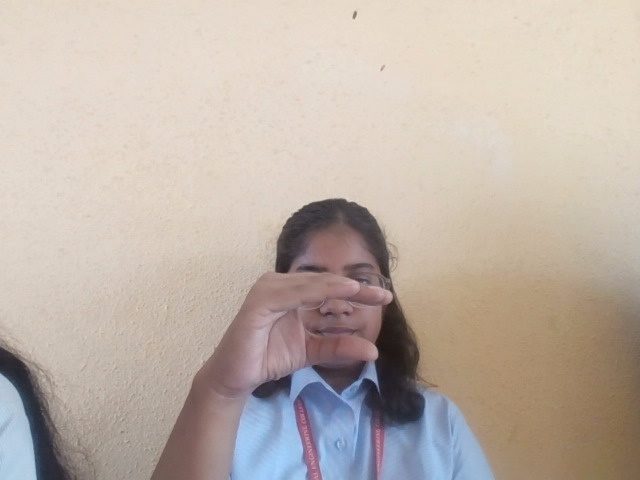No: (181, 265, 397, 397)
